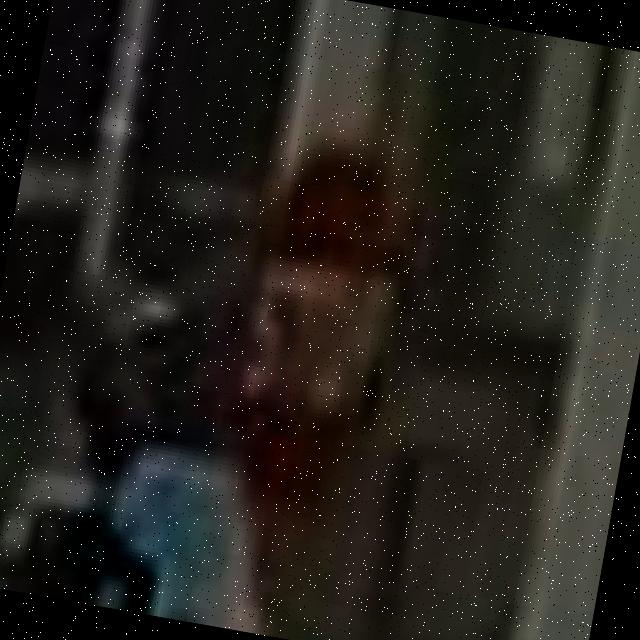Stop: (216, 135, 426, 518)
